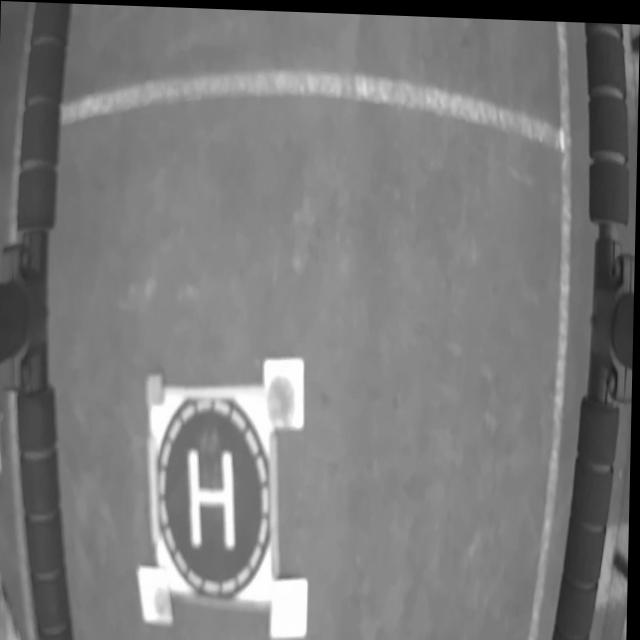Helipad: (189, 447, 237, 549)
